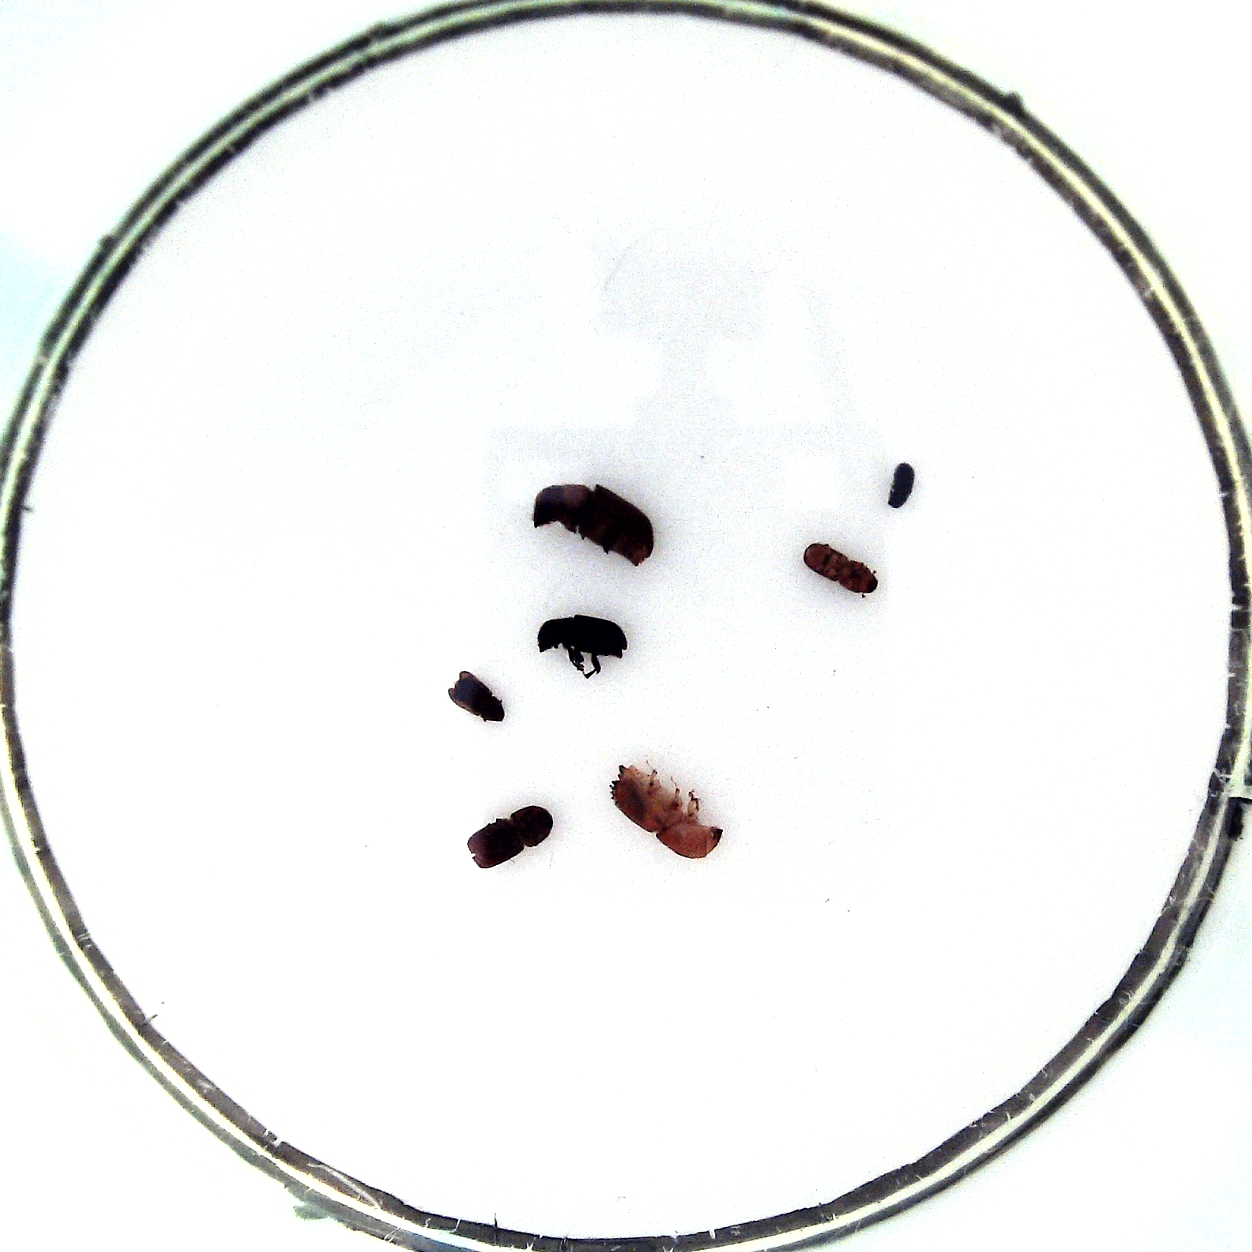Boerner: (609, 764, 720, 858)
Leconte: (532, 483, 655, 566)
acuminatus: (889, 463, 915, 508)
armandi: (538, 615, 628, 660)
coleoptera: (803, 542, 878, 593), (448, 671, 504, 722)
linnaeus: (467, 805, 553, 869)
